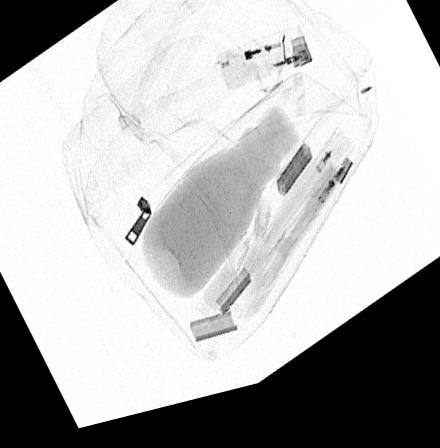Lighter: (218, 39, 313, 101)
